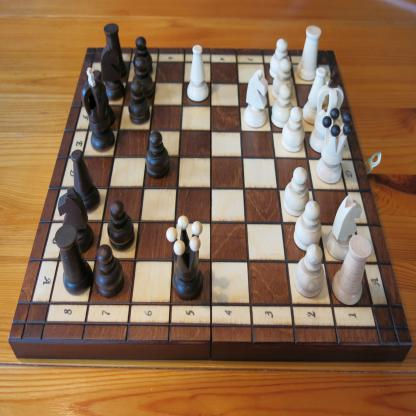black-bishop: (71, 149, 100, 213), (91, 68, 117, 127)
black-king: (81, 66, 116, 152)
black-knight: (58, 186, 93, 253), (100, 45, 124, 100)
black-pawn: (94, 244, 126, 299), (106, 200, 135, 251), (145, 129, 170, 178), (131, 56, 154, 100), (128, 79, 150, 124), (134, 36, 153, 74)
black-queen: (166, 215, 204, 300)
black-rook: (54, 223, 94, 296), (104, 22, 128, 79)
white-bishop: (302, 66, 326, 126), (187, 43, 210, 102)
white-king: (309, 70, 345, 154)
white-knight: (326, 194, 362, 262), (244, 70, 268, 128)
white-pawn: (294, 243, 325, 299), (293, 200, 322, 252), (282, 166, 310, 218), (281, 105, 305, 153), (271, 83, 294, 128), (269, 38, 291, 79), (272, 58, 293, 100)
white-queen: (316, 107, 352, 184)
white-rook: (332, 234, 372, 307), (296, 25, 323, 81)
